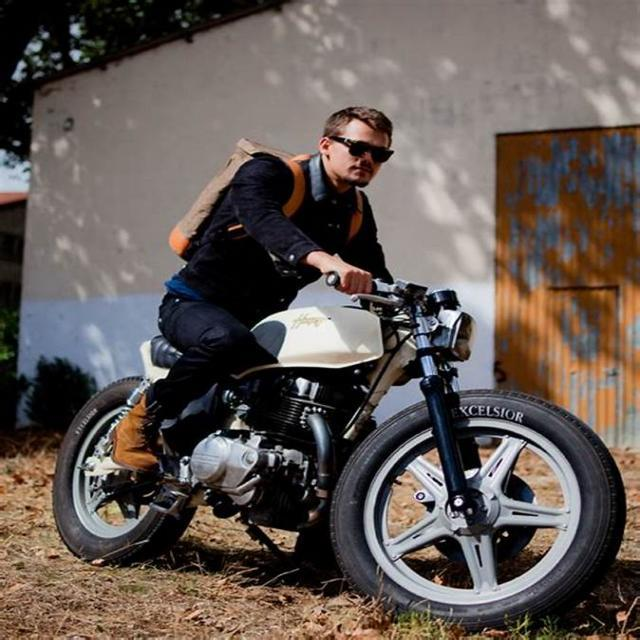No helmet: (309, 109, 408, 203)
